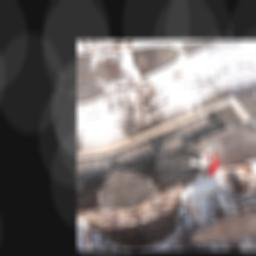Woodpecker: (123, 131, 230, 198)
